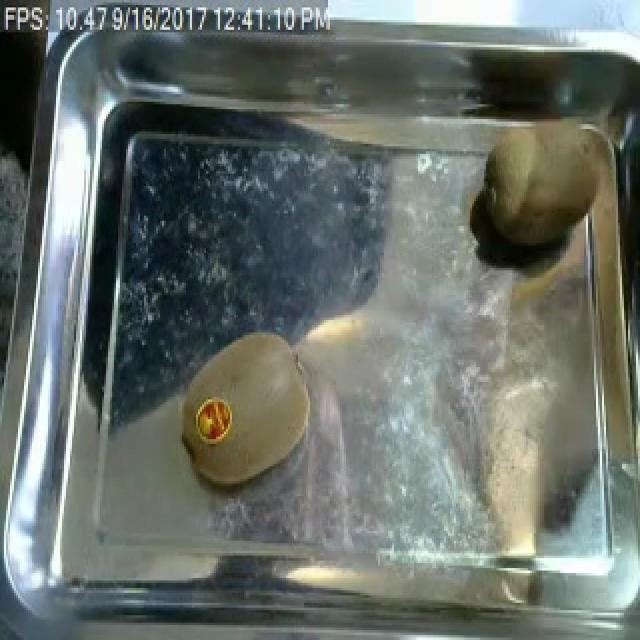Fruit: (460, 100, 638, 342), (178, 320, 322, 496)
